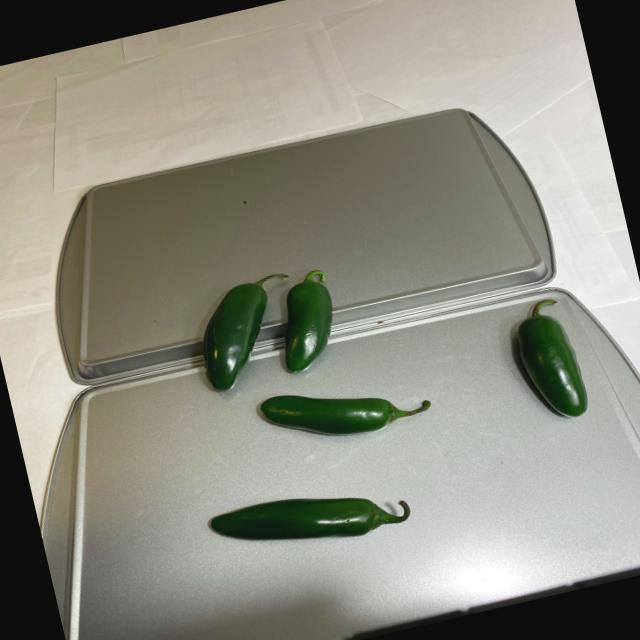chilli: (172, 209, 610, 566)
